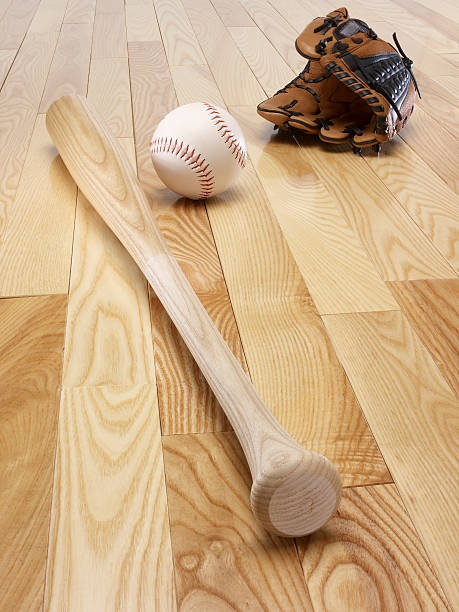bita: (42, 90, 329, 540)
